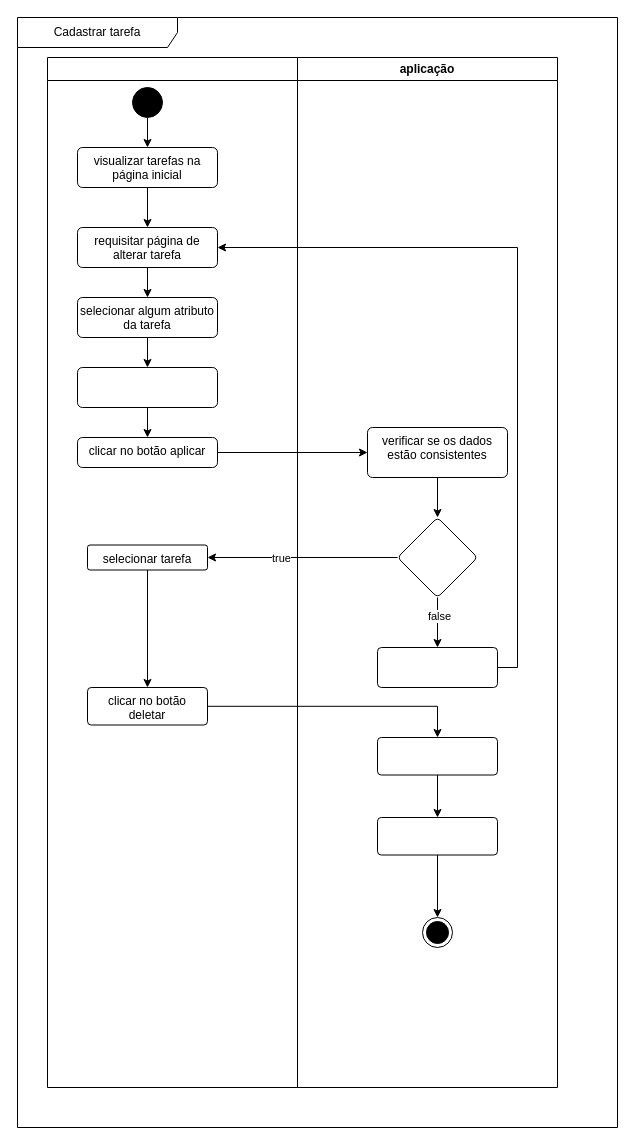
Image size: 635x1145. Some labels were removed from this diagram. Here are the shapes that lost their labels. From the top down, the box of each, then its label:
(76, 366, 218, 408): alterar atributo
(46, 56, 298, 1088): usuário
(376, 646, 498, 688): exibir mensagem de erro
(376, 736, 498, 775): deletar tarefa
(376, 816, 498, 855): exibir mensagem de exito
